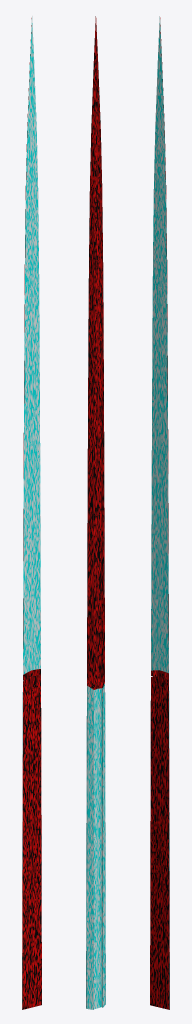
File: SM_ProtoPino_WP_01_GDH.fbx
The picture shows the model from 3 angles, left to right: view 1: azimuth 30°, elevation 25°; view 2: azimuth 210°, elevation 25°; view 3: azimuth 330°, elevation 25°; orthographic projection.
Parts seen in each view (by area): view 1: SM_ProtoPino_WP_01_GDH; view 2: SM_ProtoPino_WP_01_GDH; view 3: SM_ProtoPino_WP_01_GDH.
Boxes of the visible parts, <box> form: SM_ProtoPino_WP_01_GDH: <box>22,16,41,1009</box>; SM_ProtoPino_WP_01_GDH: <box>86,16,105,1009</box>; SM_ProtoPino_WP_01_GDH: <box>150,16,169,1009</box>.
Size of the model in its own units: 11.36 by 547 by 2.57.
